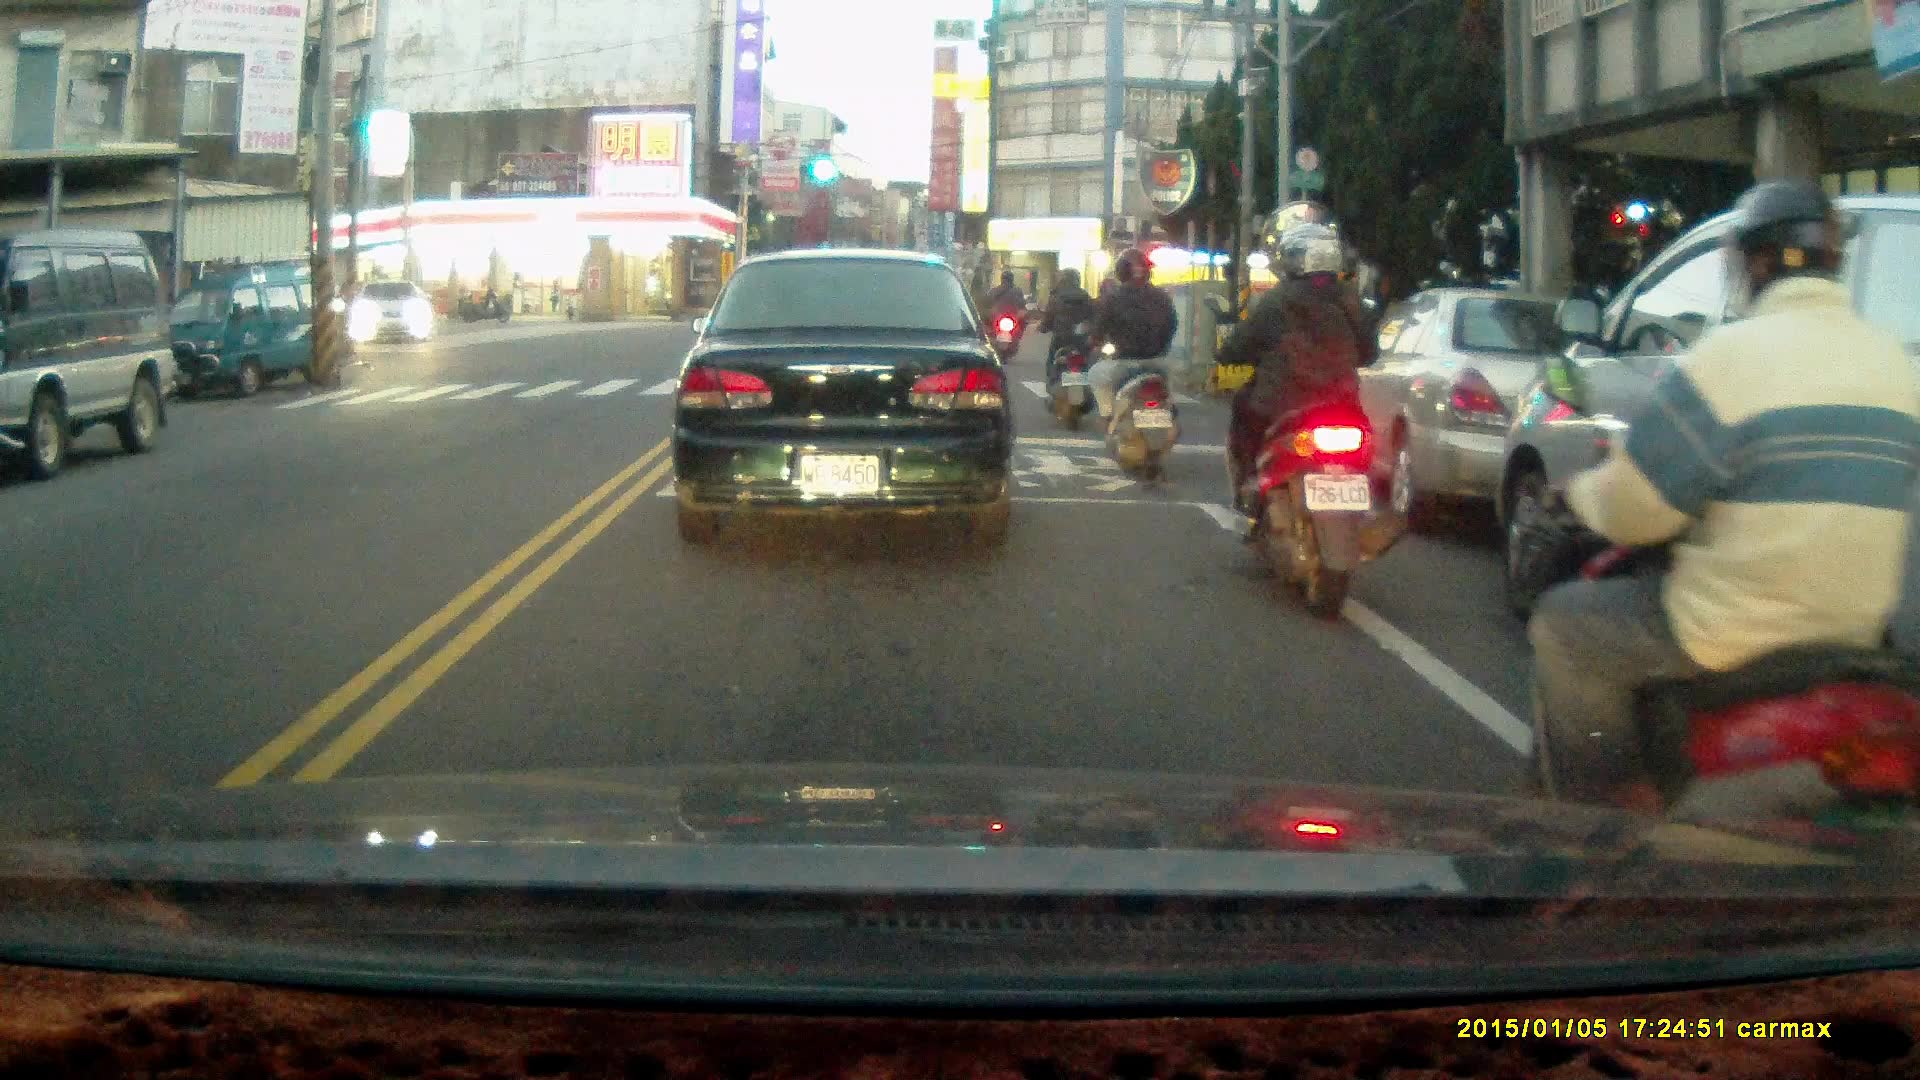rider: (1523, 176, 1920, 883), (1212, 219, 1405, 625), (1067, 249, 1176, 484), (1028, 266, 1101, 427), (986, 272, 1029, 365)
vehicle: (1500, 195, 1920, 820), (675, 250, 1020, 545), (1309, 288, 1685, 529), (1, 234, 166, 471), (151, 263, 347, 405), (353, 283, 437, 351)
